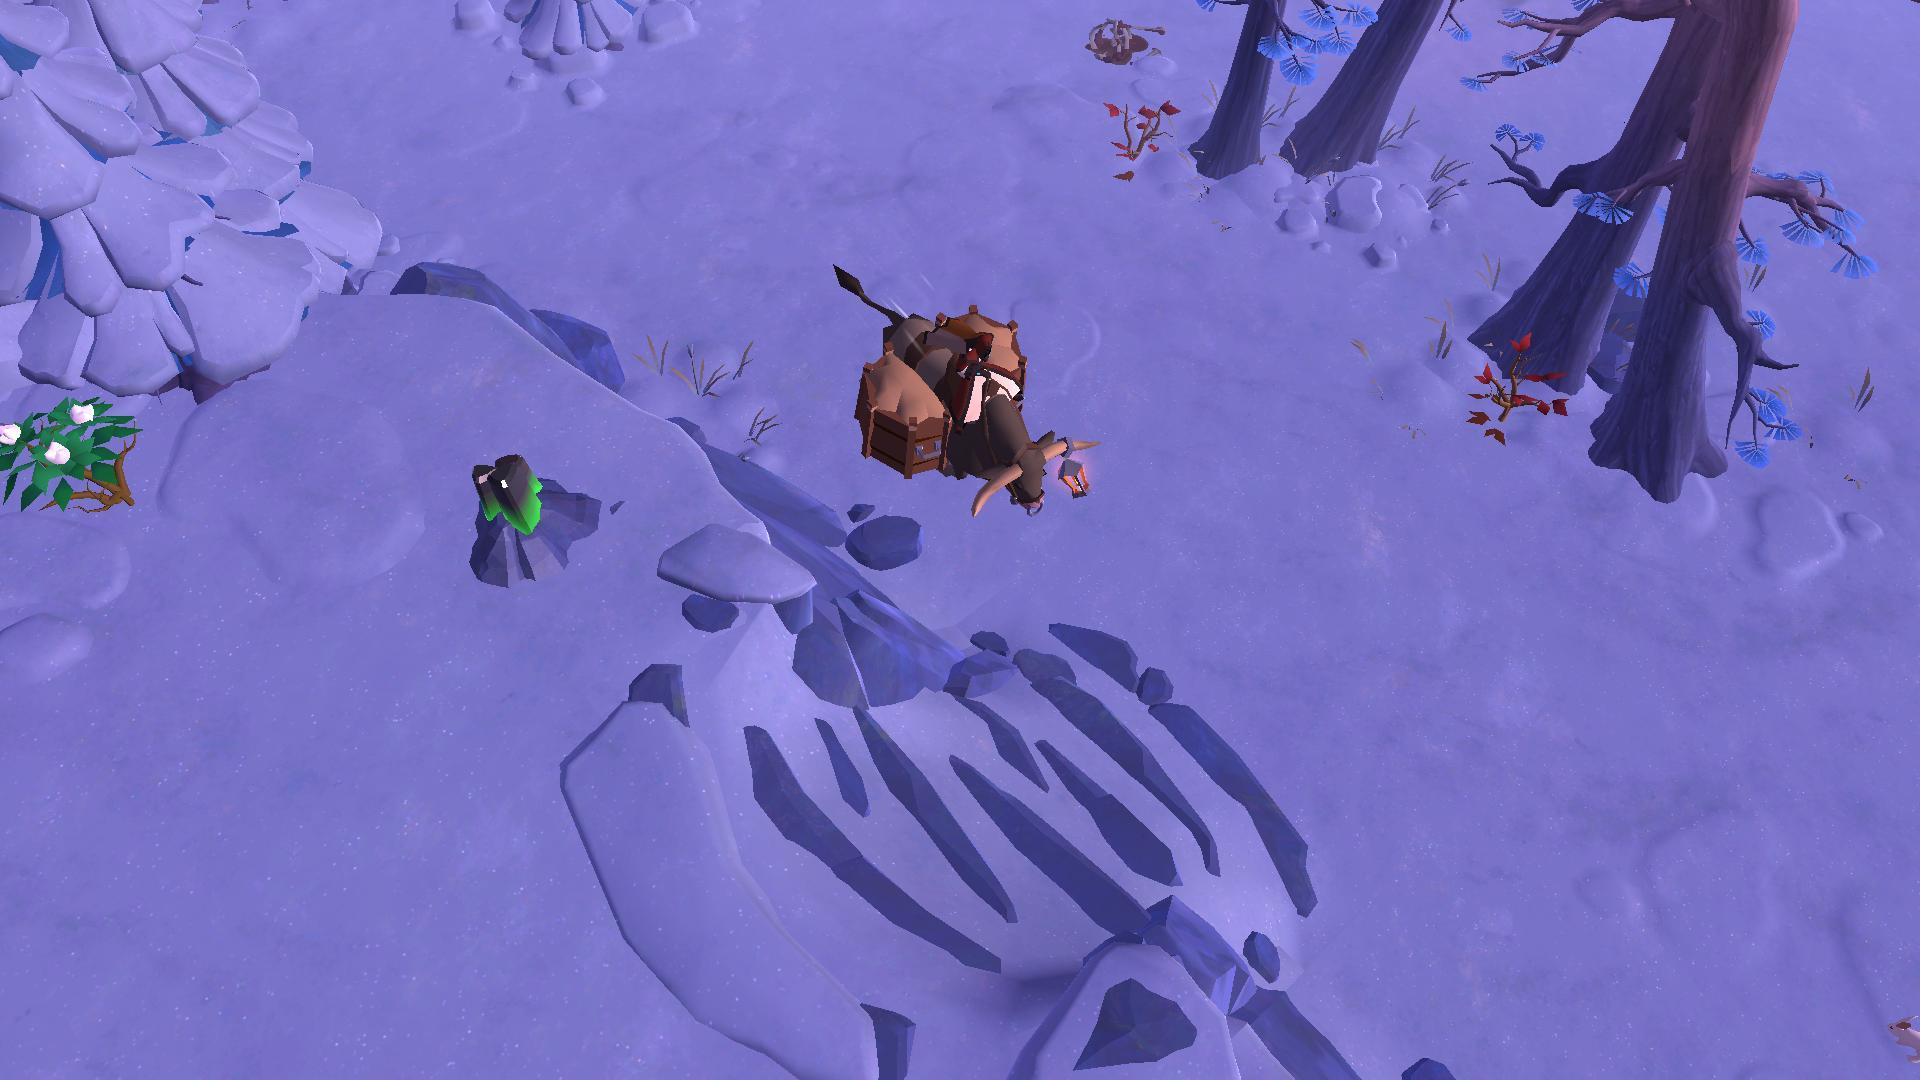fiber_t3: (0, 390, 144, 521)
ore_t3: (464, 444, 545, 530)
